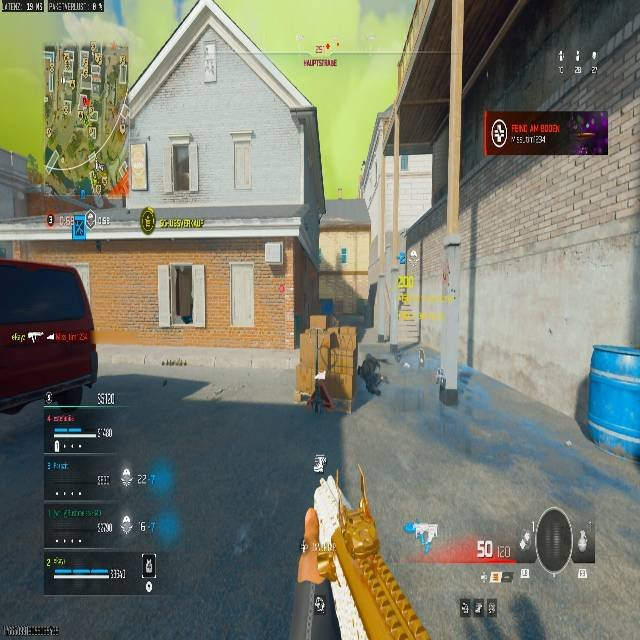player: (359, 353, 385, 397)
